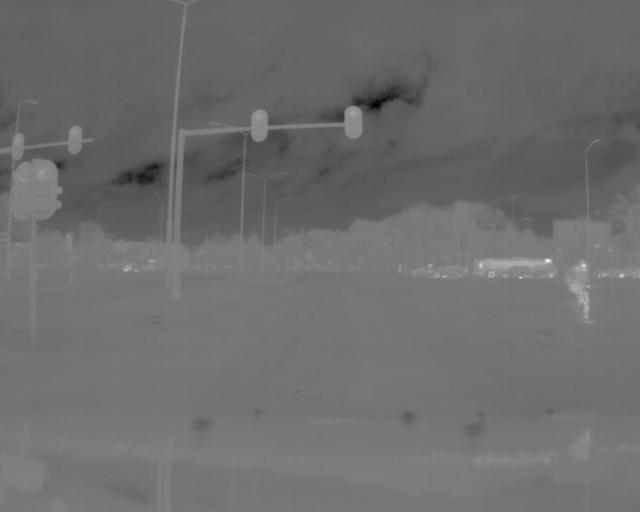person: (564, 253, 601, 329)
